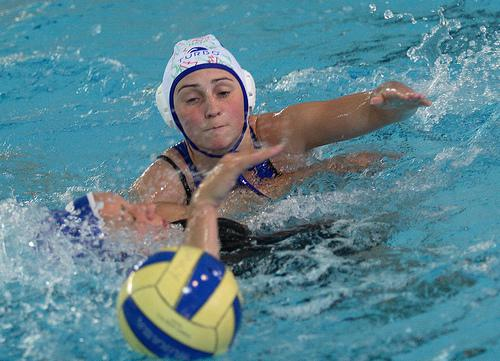swimmer: (105, 32, 426, 207), (55, 186, 238, 275)
